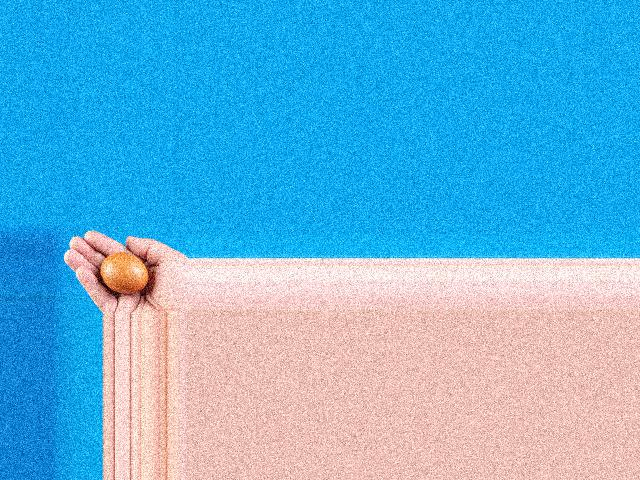egg: (99, 252, 147, 293)
